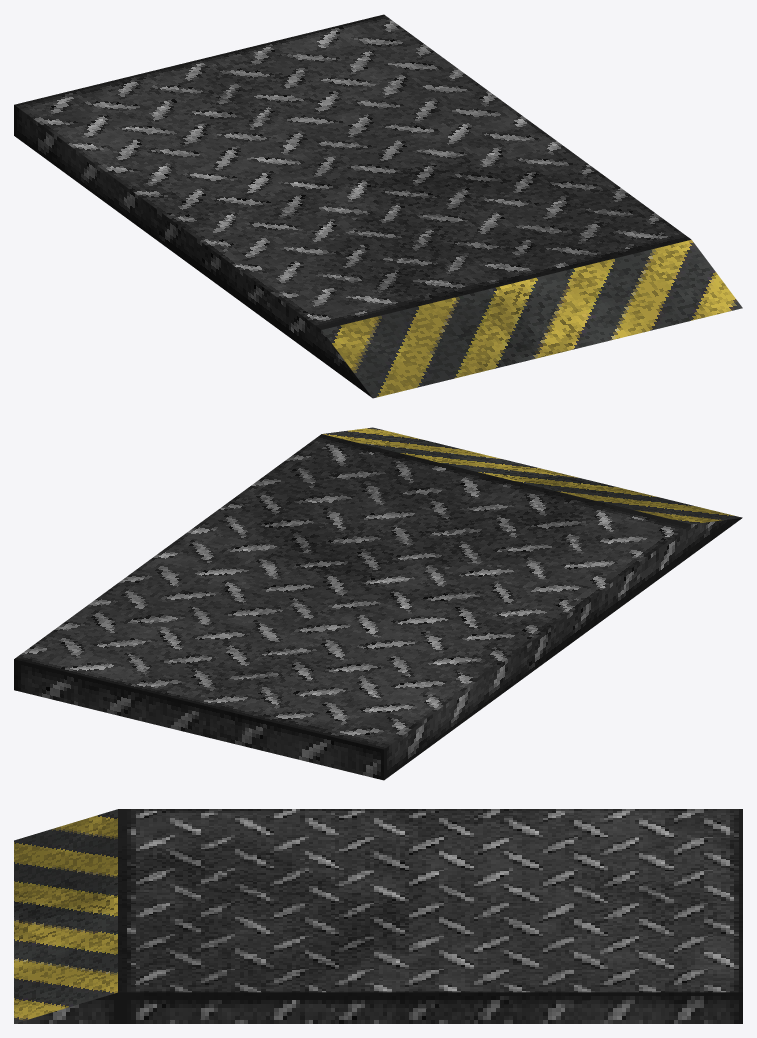
3 views of the same model, one above another, from view 1: azimuth 30°, elevation 25°; view 2: azimuth 150°, elevation 25°; view 3: azimuth 270°, elevation 25° (orthographic).
Visible parts, largest first — view 1: stand; view 2: stand; view 3: stand.
Boxes of the visible parts, left/top/right/bottom form: stand: left=14, top=14, right=742, bottom=398; stand: left=14, top=427, right=742, bottom=780; stand: left=14, top=809, right=742, bottom=1023.
Size of the model in its own units: 0.7812 by 0.0625 by 1.31.
1 material, 1 textured.
